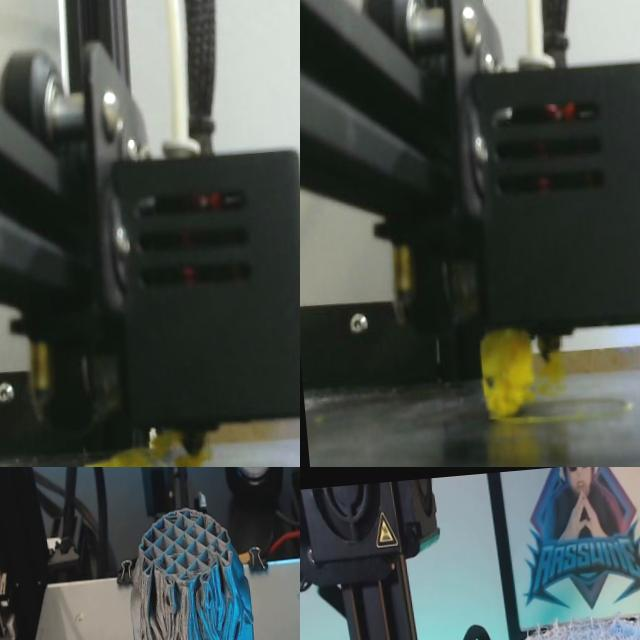spaghetti: (480, 327, 563, 419), (84, 429, 209, 467)
